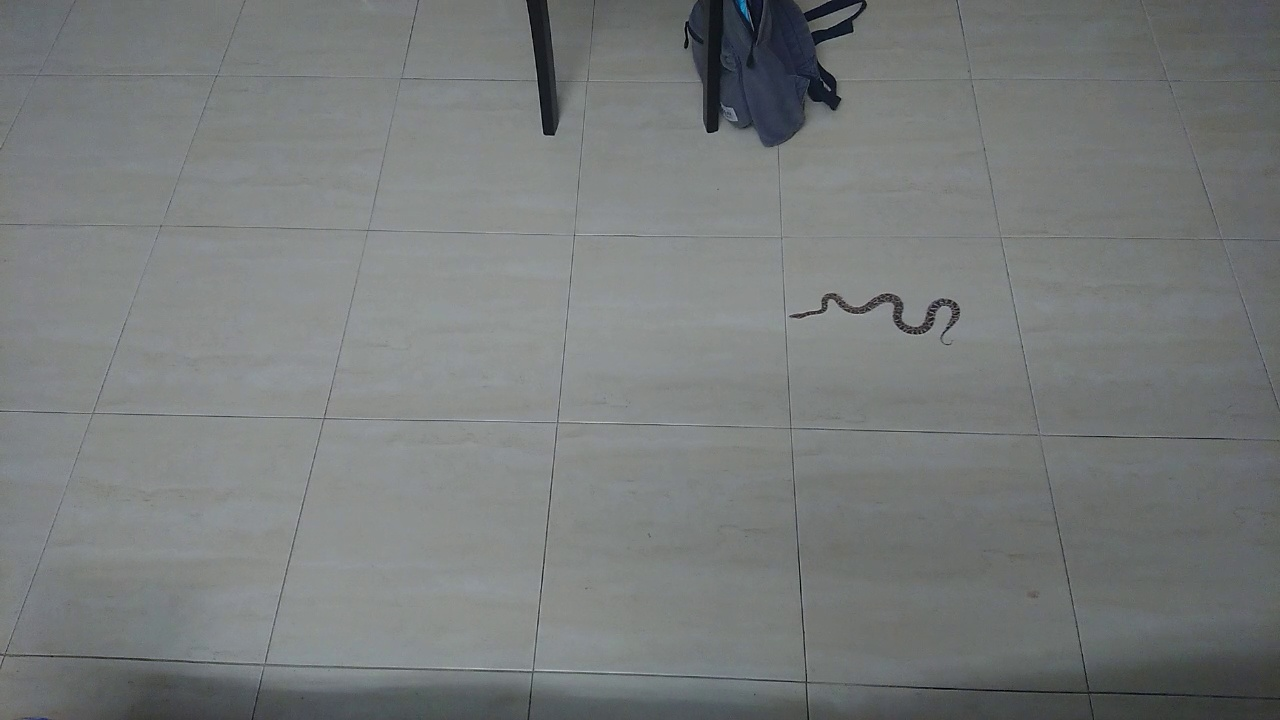snake: (778, 276, 966, 357)
